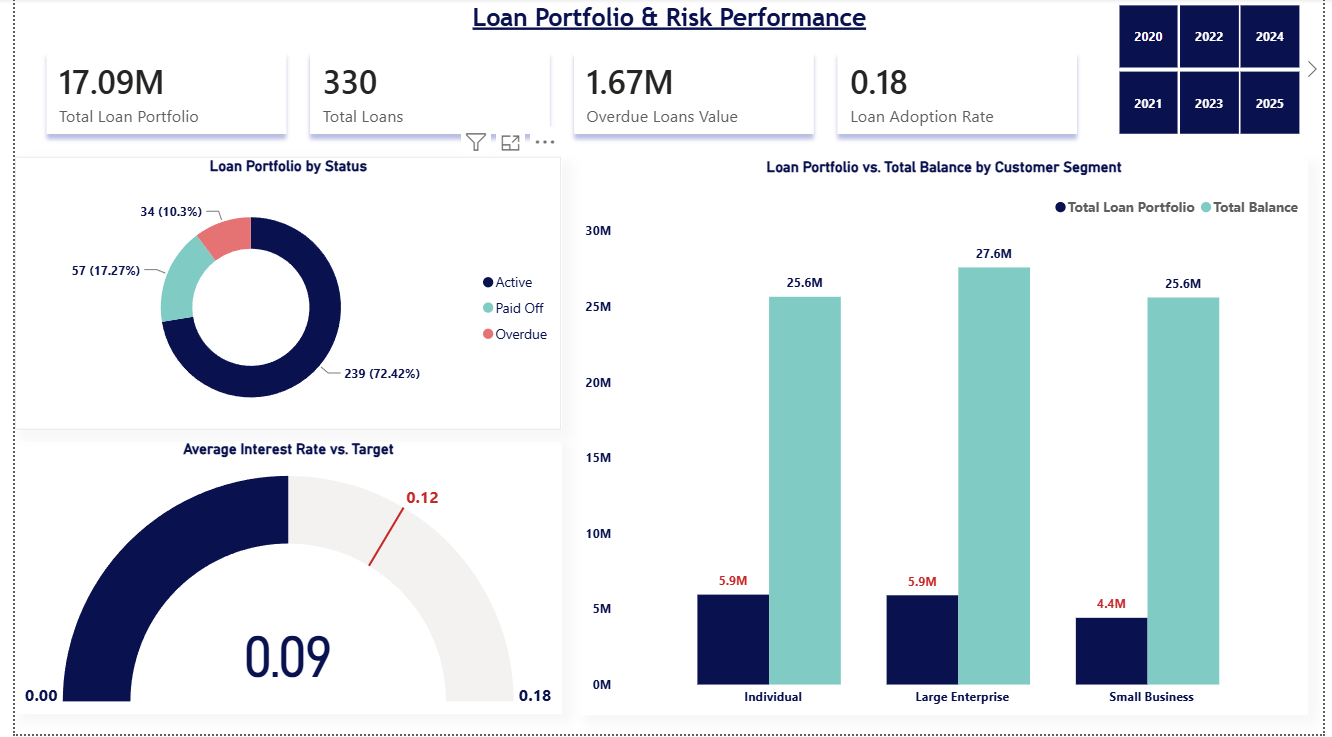

Layout of this report page (visuals, bound fields, positions):
{"tool":"powerbi","page":{"name":"Loan Portfolio & Risk Performance","canvas":[1280,720],"ordinal":3},"visuals":[{"type":"cardVisual","fields":{"Data":["calculation.Total Loan Portfolio","calculation.Total Loans","calculation.Overdue Loans Value","calculation.Loan Adoption Rate"]},"box":[0,20.9,1070.1,144],"z":0},{"type":"textbox","box":[0,0,1280.3,41.8],"z":1000},{"type":"donutChart","title":"Loan Portfolio by Status","fields":{"Category":["loan_statuses.StatusName"],"Y":["calculation.Total Loans"]},"box":[0,155.6,534.9,266.8],"z":2000},{"type":"gauge","title":"Average Interest Rate vs. Target","fields":{"Y":["calculation.Avg Interest Rate"],"TargetValue":["calculation.Target Interest Rate"]},"box":[0,433,535,267],"z":3000},{"type":"clusteredColumnChart","title":"Loan Portfolio vs. Total Balance by Customer Segment","fields":{"Category":["customer_types.Customer TypeName"],"Y":["calculation.Total Loan Portfolio","calculation.Total Balance"]},"box":[552.5,156,712.4,544.8],"z":4000},{"type":"slicer","fields":{"Values":["Calendar table.Year"]},"box":[1053.9,0,226.4,139.4],"z":5000}]}

Visuals, with their boxes in screenshot pixels (x1, y1, x2, y2), scaled from the page's 1280x720 canvas onto the 1332x737 screenshot:
cardVisual - calculation.Total Loan Portfolio x calculation.Total Loans: [left=0, top=21, right=1114, bottom=169]
textbox: [left=0, top=0, right=1331, bottom=43]
"Loan Portfolio by Status" donutChart: [left=0, top=159, right=557, bottom=432]
"Average Interest Rate vs. Target" gauge: [left=0, top=443, right=557, bottom=717]
"Loan Portfolio vs. Total Balance by Customer Segment" clusteredColumnChart: [left=575, top=160, right=1316, bottom=717]
slicer - Calendar table.Year: [left=1097, top=0, right=1331, bottom=143]
